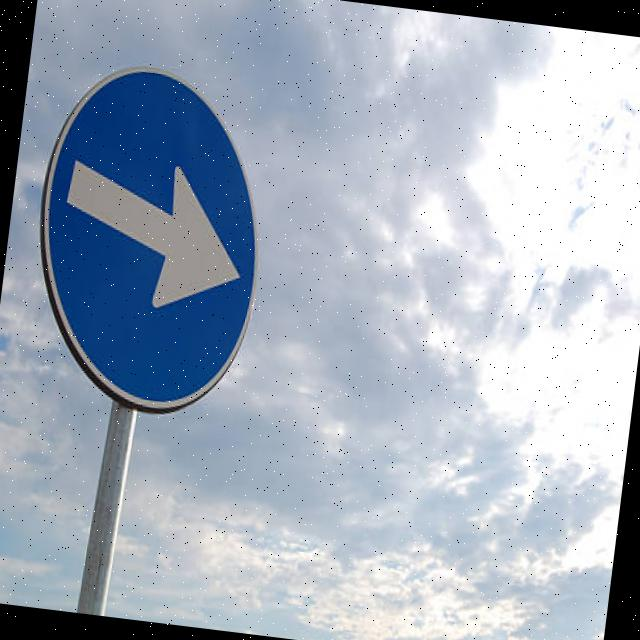compulsory_keep_right: (14, 51, 298, 442)
